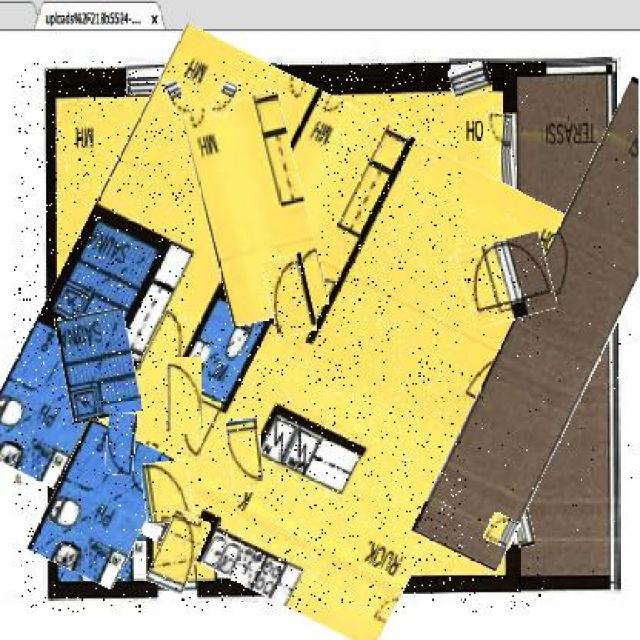door: (460, 235, 554, 323), (152, 512, 203, 592), (264, 254, 314, 335), (142, 460, 192, 523), (166, 357, 202, 434), (229, 417, 263, 492), (106, 414, 137, 475), (486, 514, 519, 548), (486, 114, 512, 149), (169, 80, 188, 118), (214, 83, 234, 117)
window: (497, 415, 529, 548), (211, 60, 280, 95), (500, 114, 518, 240), (126, 61, 189, 94), (449, 63, 491, 99)
zone: (14, 60, 546, 612), (463, 74, 640, 574), (195, 94, 318, 323), (40, 425, 162, 583), (58, 310, 137, 422)
